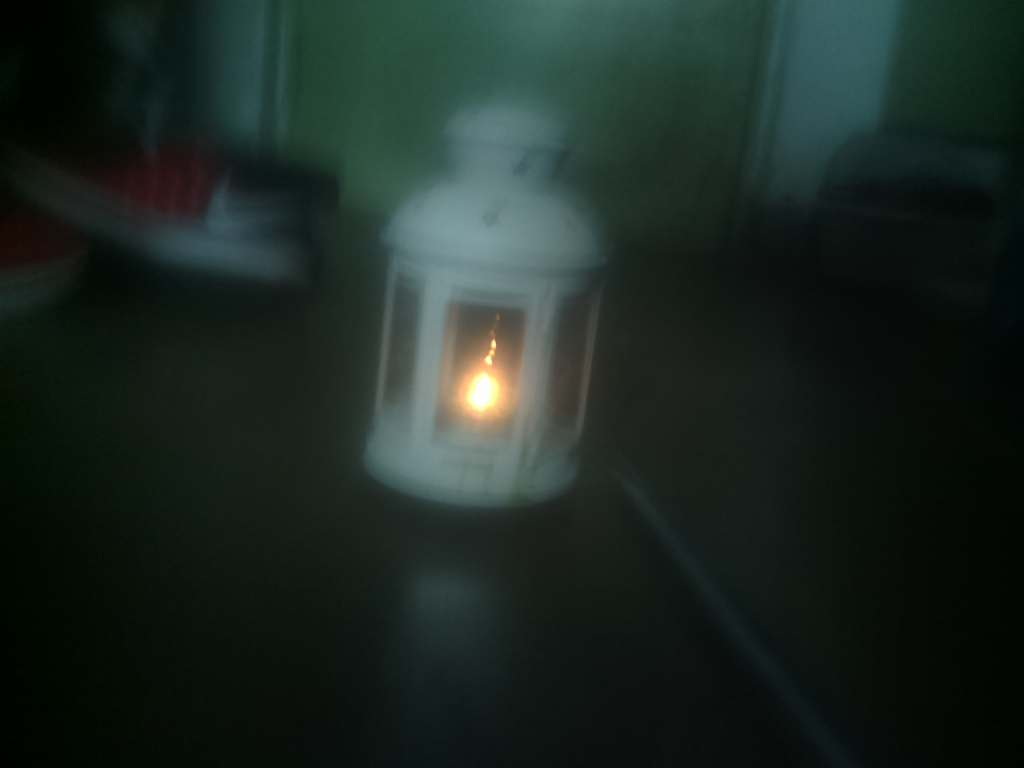fire: (429, 341, 541, 449)
